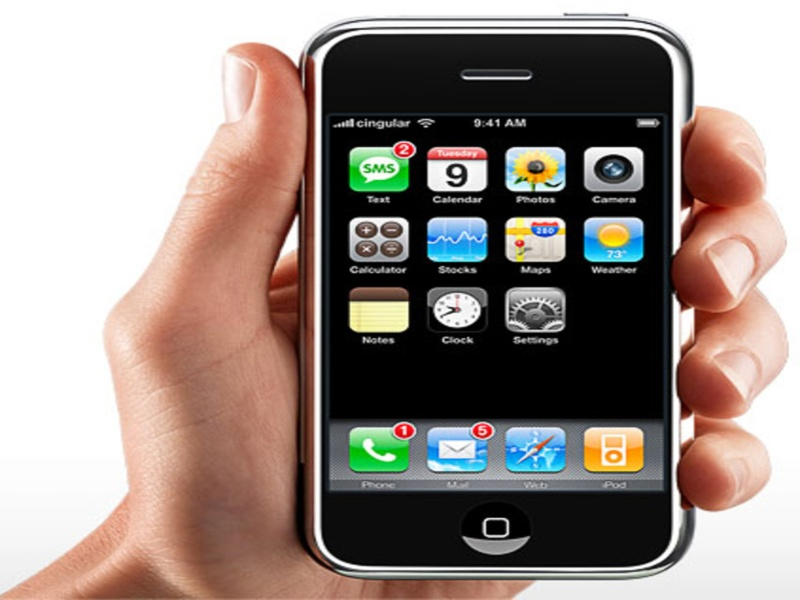cellphone: (287, 8, 709, 582)
